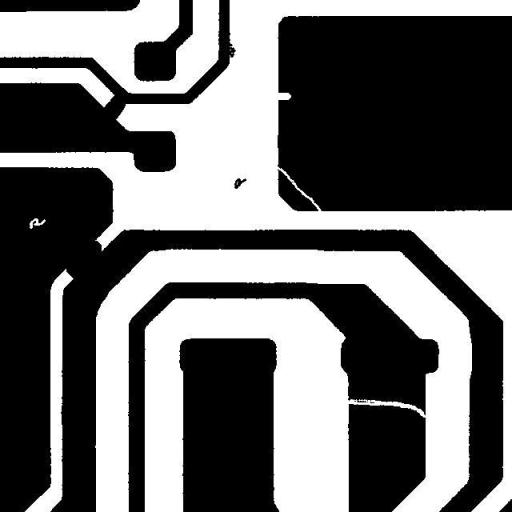copper: (226, 170, 254, 196)
mousebite: (266, 85, 298, 107)
open: (268, 158, 330, 221), (336, 391, 434, 425)
pin-hole: (22, 210, 52, 236)
short: (58, 233, 109, 286), (95, 83, 133, 130)
spur: (218, 36, 244, 65)
